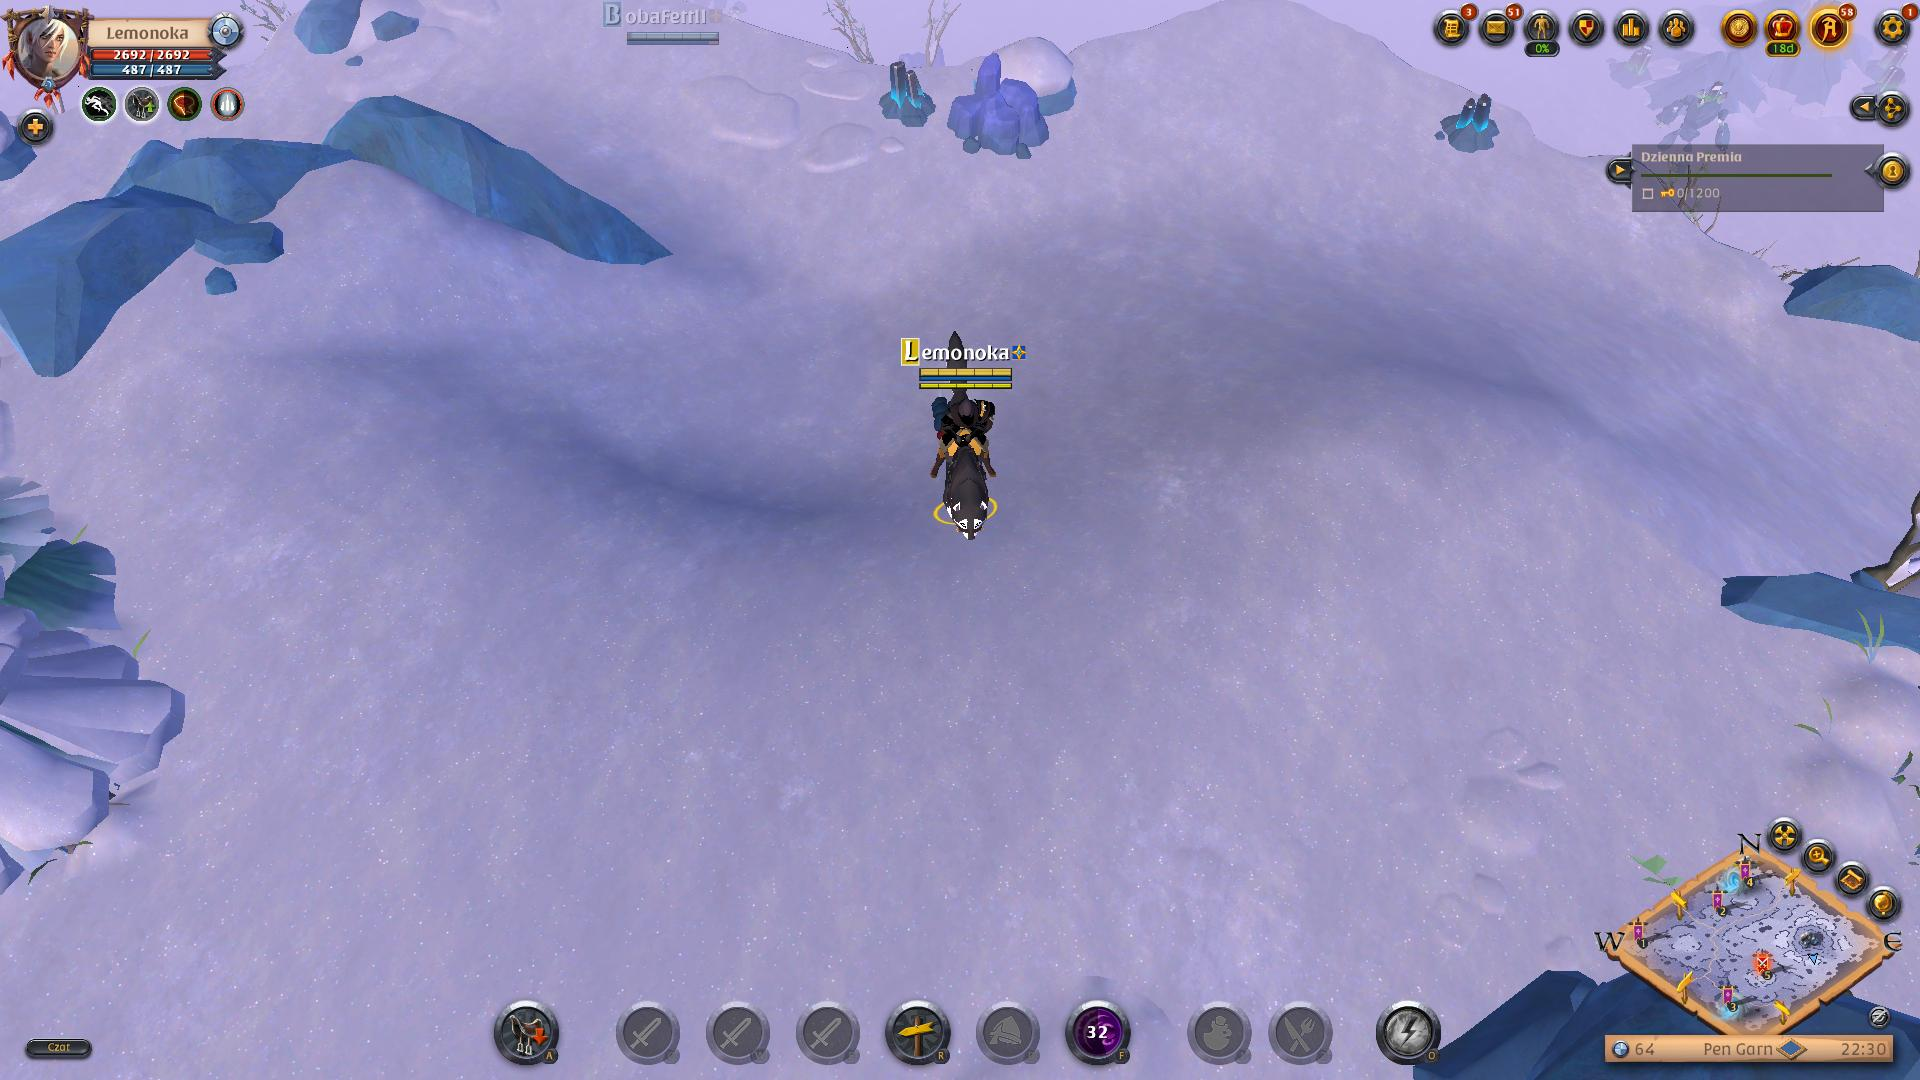ore tier 4: (880, 57, 940, 132), (1436, 88, 1503, 156)
rock tier 4: (948, 57, 1056, 164)
